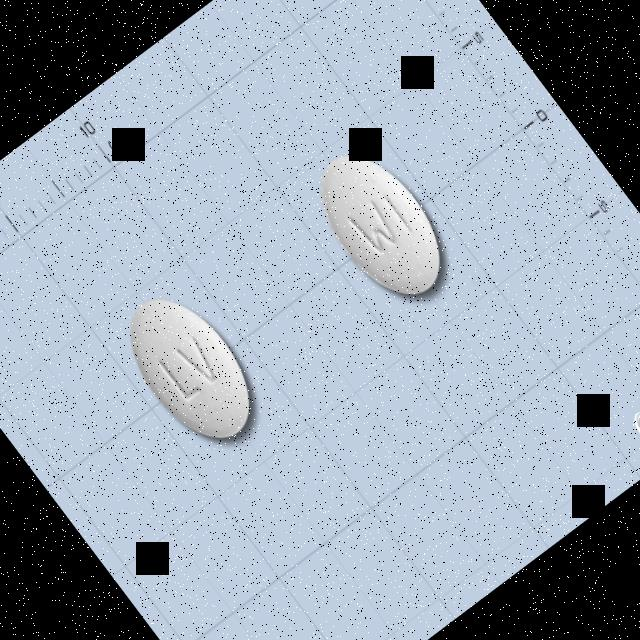Whanin Levofloxacin Tab: (296, 133, 466, 317), (106, 275, 275, 459)
